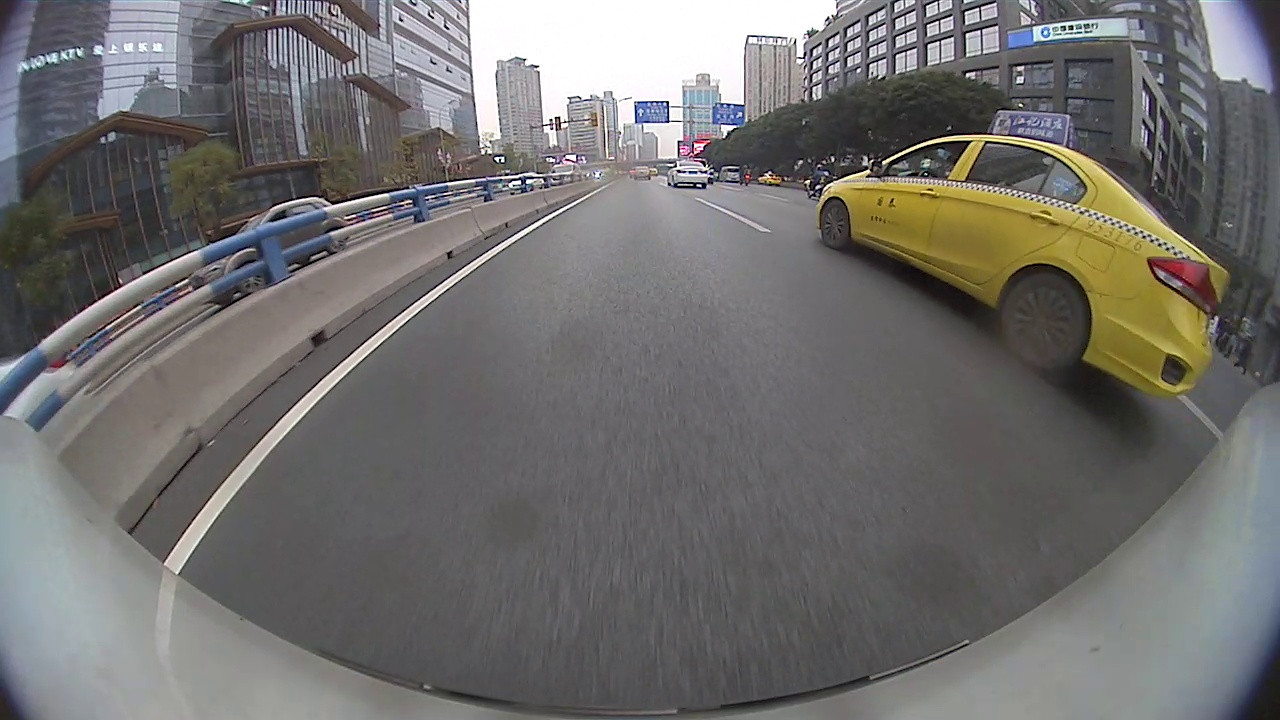car: (812, 107, 1233, 401), (184, 196, 355, 309), (663, 159, 710, 190), (545, 160, 585, 187), (507, 171, 546, 194)
front: (820, 200, 854, 252), (232, 262, 272, 298)
rear: (1000, 274, 1090, 373)
rider: (802, 163, 838, 204)
